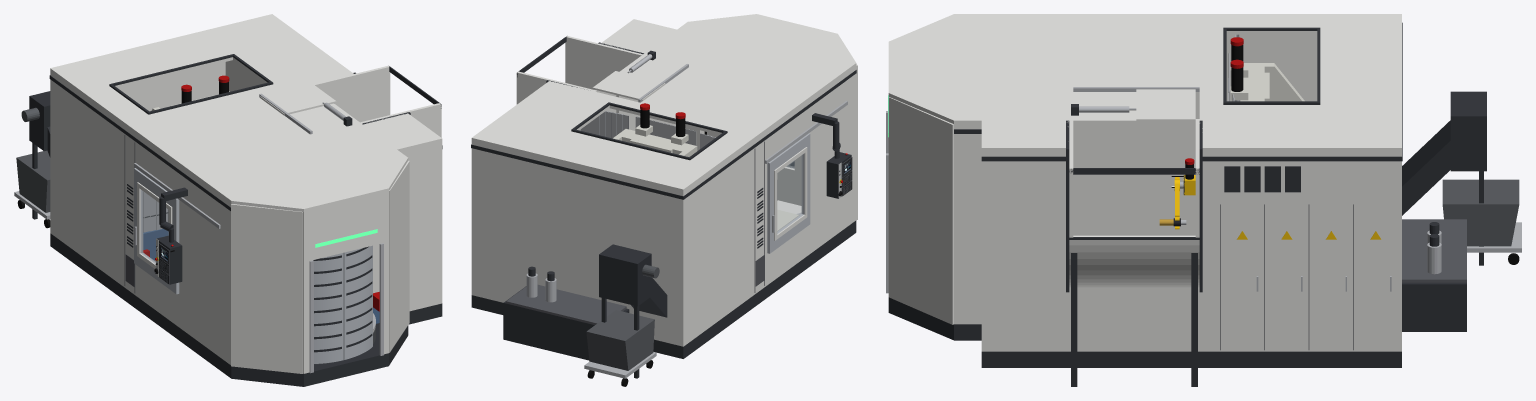
Rendered from hmc_x1200_5ax_white_left.glb.
The picture shows the model from 3 angles, left to right: view 1: azimuth 30°, elevation 25°; view 2: azimuth 150°, elevation 25°; view 3: azimuth 270°, elevation 25°; orthographic projection. The views are drawn at different scales.
Parts seen in each view (by area): view 1: enclosure__hmc_white, apc_housing__hmc_white, enclosure__anthracite, tc_box__hmc_white, apc_housing__anthracite, apc_door_left__door_grey, apc_door_right__door_grey, chip_cart__steel_dark, operator_door__door_grey, cnc_panel__anthracite, tc_door__hmc_white, chip_coolant__anthracite (+9 smaller); view 2: enclosure__hmc_white, chip_coolant__anthracite, apc_housing__hmc_white, enclosure__anthracite, tc_box__hmc_white, chip_cart__steel_dark, chip_coolant__anthracite_lt, operator_door__door_grey, operator_door__glass_clear, tc_door__hmc_white, column__struct_grey, cnc_panel__anthracite (+9 smaller); view 3: enclosure__hmc_white, apc_housing__hmc_white, electrical_cabinet__hmc_white, enclosure__anthracite, chip_coolant__anthracite, tc_door__hmc_white, tc_box__hmc_white, chip_cart__steel_dark, chip_coolant__anthracite_lt, tc_box__anthracite, column__struct_grey, apc_housing__anthracite (+3 smaller).
Part boxes in pixels (x1,y1,x2,y2): enclosure__hmc_white: (50, 14, 442, 357); apc_housing__hmc_white: (220, 149, 409, 373); enclosure__anthracite: (49, 54, 442, 370); tc_box__hmc_white: (313, 65, 441, 137); apc_housing__anthracite: (220, 200, 408, 386); apc_door_left__door_grey: (343, 245, 372, 359); apc_door_right__door_grey: (314, 253, 343, 363); chip_cart__steel_dark: (16, 150, 50, 212); operator_door__door_grey: (134, 168, 179, 294); cnc_panel__anthracite: (156, 187, 187, 284); tc_door__hmc_white: (260, 83, 336, 115); chip_coolant__anthracite: (29, 91, 50, 219); enclosure__hmc_white: (471, 19, 845, 346); chip_coolant__anthracite: (503, 244, 667, 378); apc_housing__hmc_white: (677, 14, 857, 227); enclosure__anthracite: (471, 42, 845, 358); tc_box__hmc_white: (516, 36, 642, 104); chip_cart__steel_dark: (586, 310, 654, 370); chip_coolant__anthracite_lt: (506, 284, 626, 324); operator_door__door_grey: (767, 133, 810, 253); operator_door__glass_clear: (778, 155, 802, 231); tc_door__hmc_white: (592, 71, 665, 112); column__struct_grey: (613, 125, 697, 156); cnc_panel__anthracite: (812, 113, 851, 198); enclosure__hmc_white: (981, 14, 1401, 351); apc_housing__hmc_white: (888, 14, 981, 324); electrical_cabinet__hmc_white: (1220, 203, 1397, 351); enclosure__anthracite: (981, 22, 1402, 367); chip_coolant__anthracite: (1402, 91, 1486, 331); tc_door__hmc_white: (1136, 89, 1195, 235); tc_box__hmc_white: (1069, 120, 1199, 287); chip_cart__steel_dark: (1442, 179, 1519, 246); chip_coolant__anthracite_lt: (1402, 219, 1466, 282); tc_box__anthracite: (1069, 168, 1199, 386); column__struct_grey: (1230, 63, 1304, 101); apc_housing__anthracite: (888, 129, 981, 340).
Bounding box in the file's own units: 5.08 × 3.22 × 7.86.
20 materials, 2 textured.
